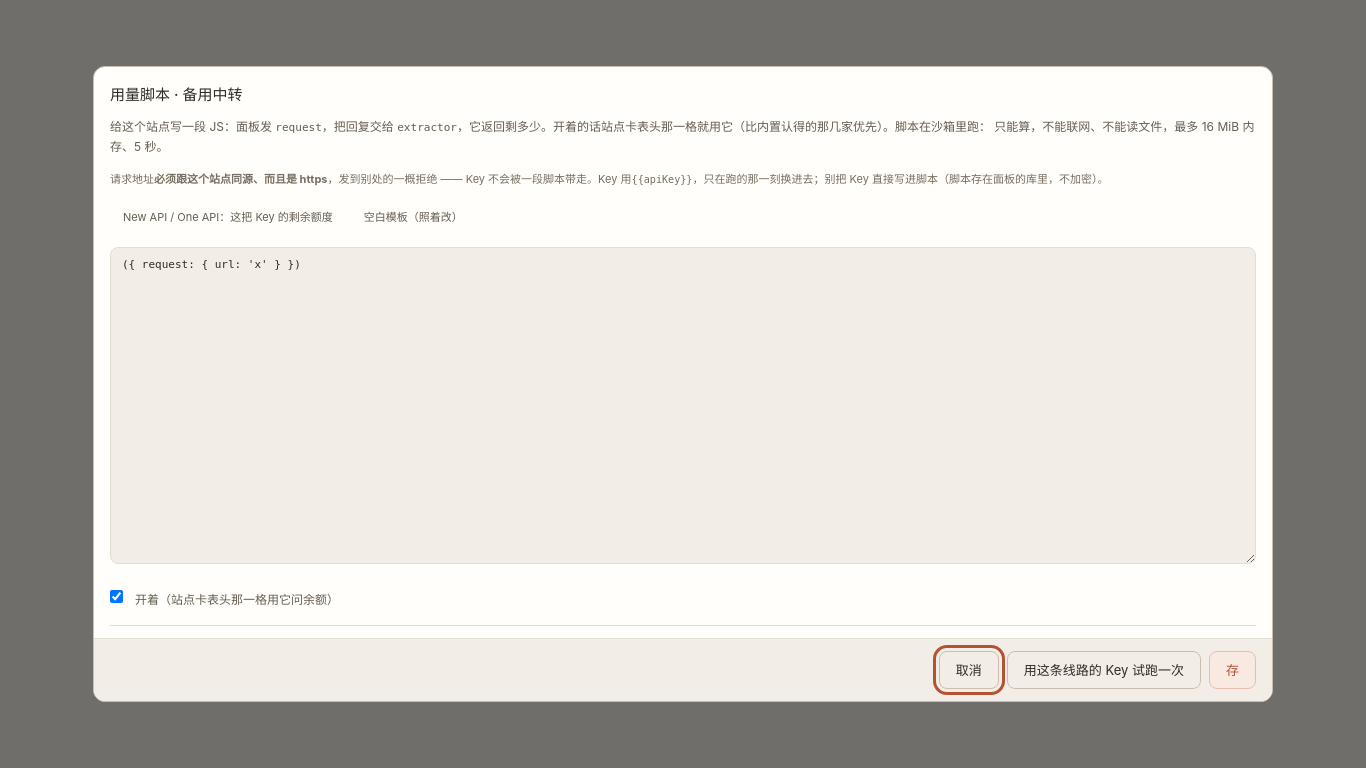
Test case: shows why a test run was refused and keeps what was typed
Expected: the text box named "脚本" holds "({ request: { url: 'x' } })", [110,247,1256,564]
Click the button "用这条线路的 Key 试跑一次" at {"x": 1104, "y": 670}, box [1007,651,1201,689]
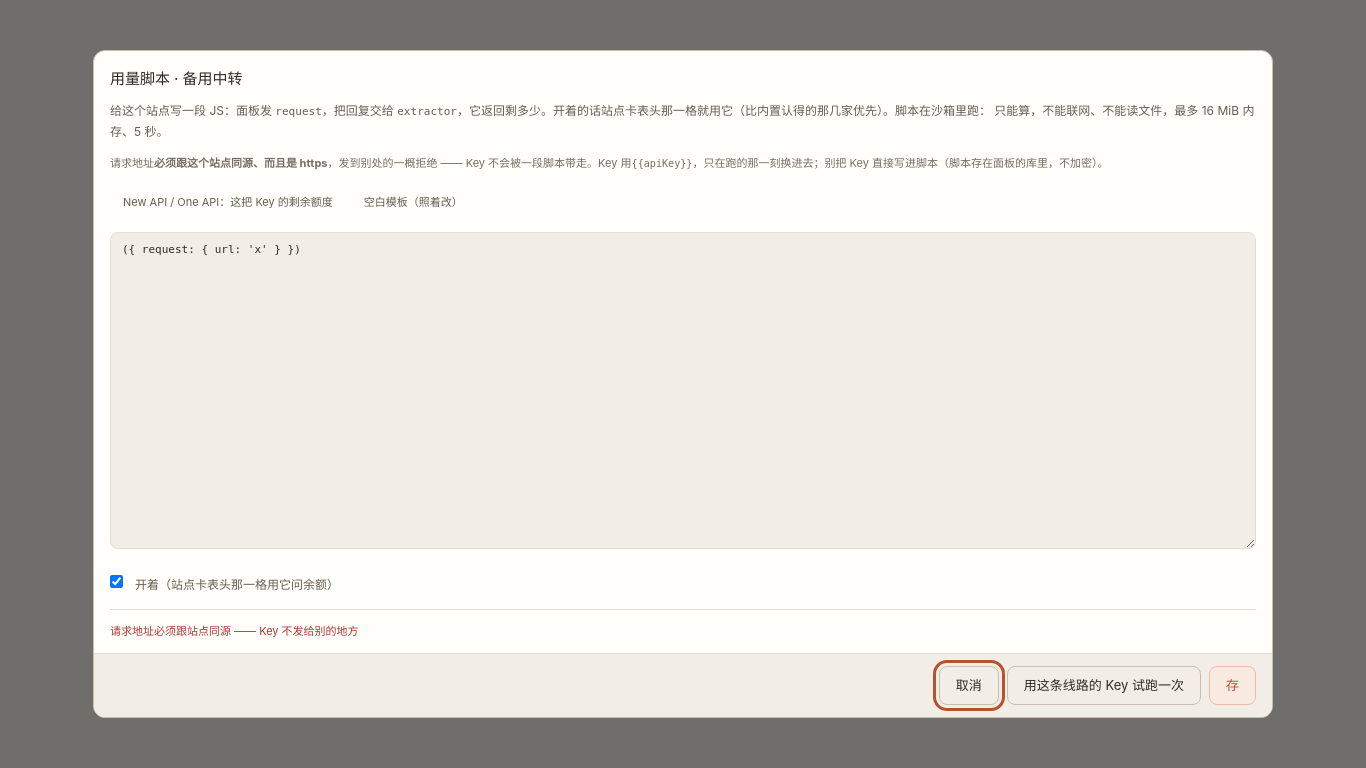
Expected: the text box named "脚本" holds "({ request: { url: 'x' } })", [110,232,1256,549]
Expected: the text "请求地址必须跟站点同源 —— Key 不发给别的地方" is shown, [110,624,359,638]
